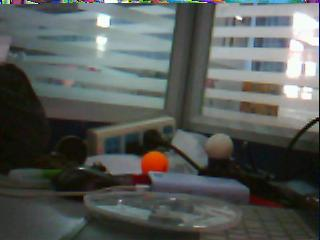oball: (141, 151, 168, 174)
